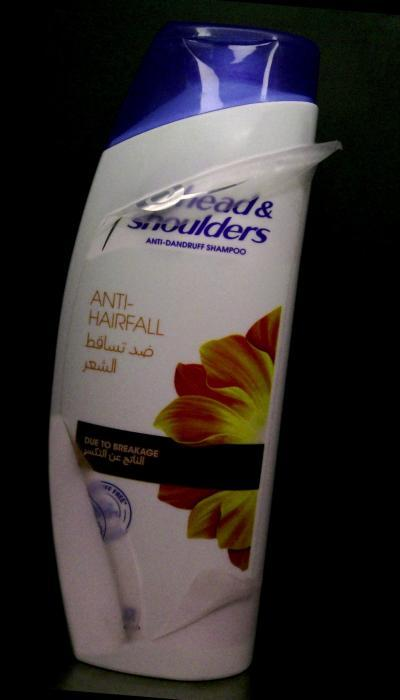adhesion_unacc: (43, 418, 163, 642), (102, 127, 316, 238), (154, 561, 254, 648)
